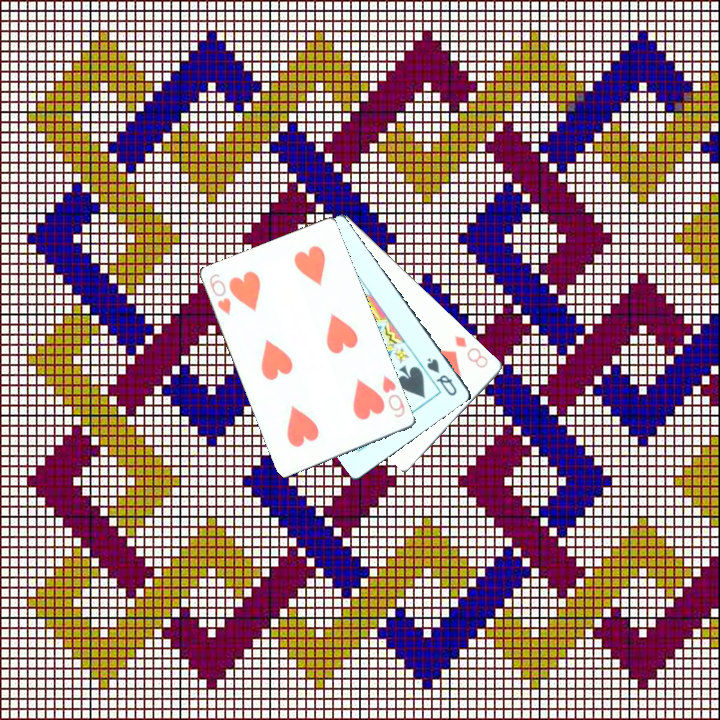6h: (378, 371, 408, 420), (205, 269, 233, 318)
8d: (450, 331, 490, 371)
Qs: (422, 354, 459, 399)
